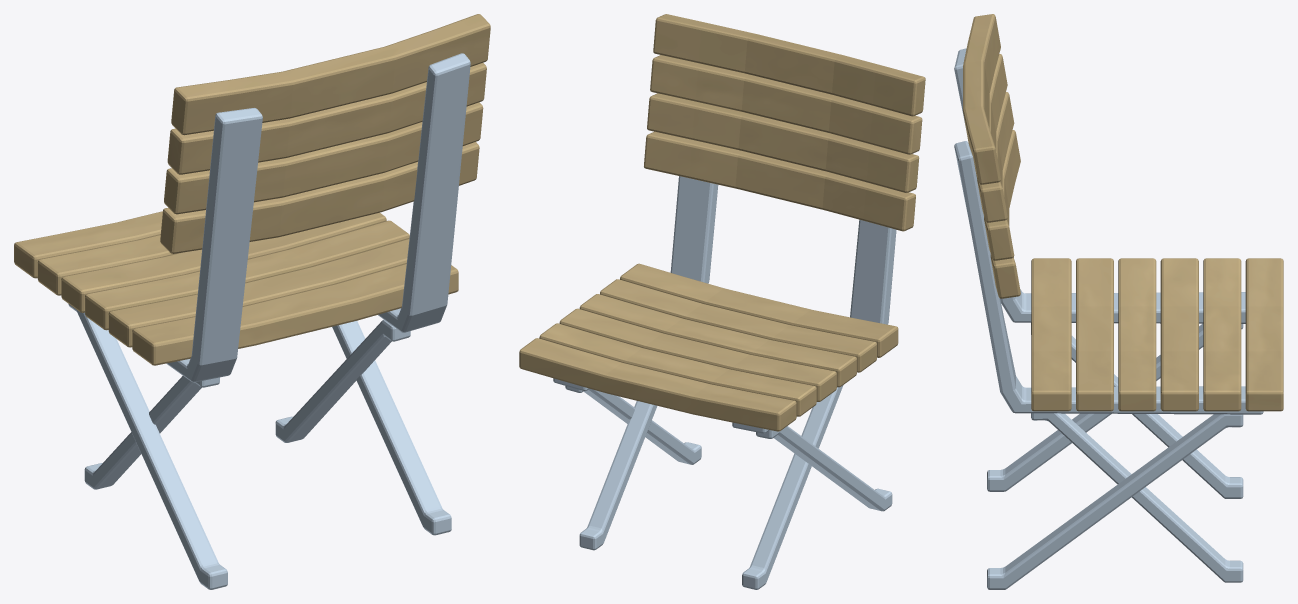
Rendered from Chair.glb.
3 renders of one model, left to right at view 1: azimuth 30°, elevation 25°; view 2: azimuth 150°, elevation 25°; view 3: azimuth 270°, elevation 25°, orthographic. The views are drawn at different scales.
Visible parts, largest first — view 1: Chair; view 2: Chair; view 3: Chair.
Boxes of the visible parts, left/top/right/bottom form: Chair: left=14, top=14, right=490, bottom=589; Chair: left=519, top=14, right=925, bottom=589; Chair: left=954, top=14, right=1283, bottom=589.
Bounding box in the file's own units: 0.5597 × 0.8874 × 0.5794.
Materials: 2 (1 with a texture image).
